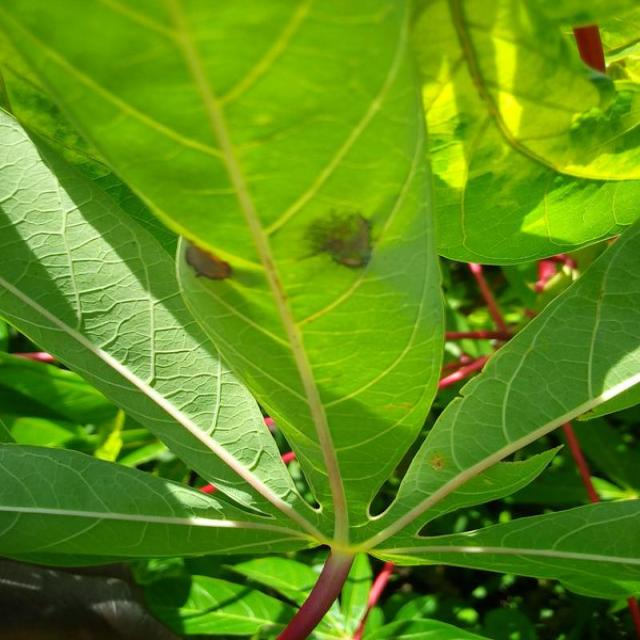cassava leaf: (2, 0, 449, 535)
